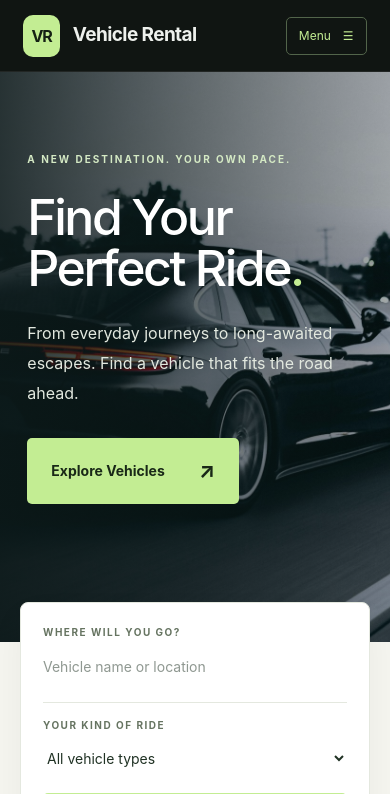
Test: has an accessible mobile menu and closes it after navigation
Click the button with aria-label "Open navigation" at (326, 36), box [286,16,367,54]
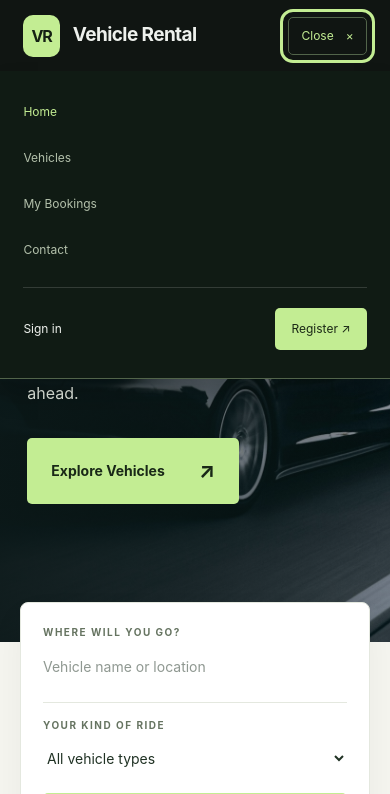
Check: the button with aria-label "Close navigation" is expanded, box [288,16,367,54]
Click the link "Vehicles" at (47, 158), box [23,150,71,165]
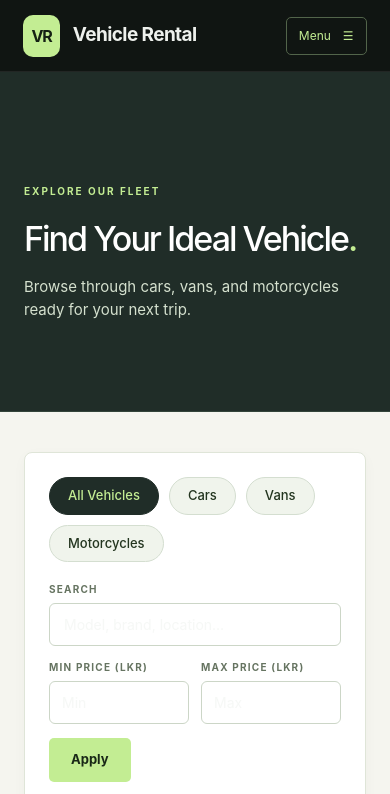
Check: the button with aria-label "Open navigation" is collapsed, box [286,16,367,54]
